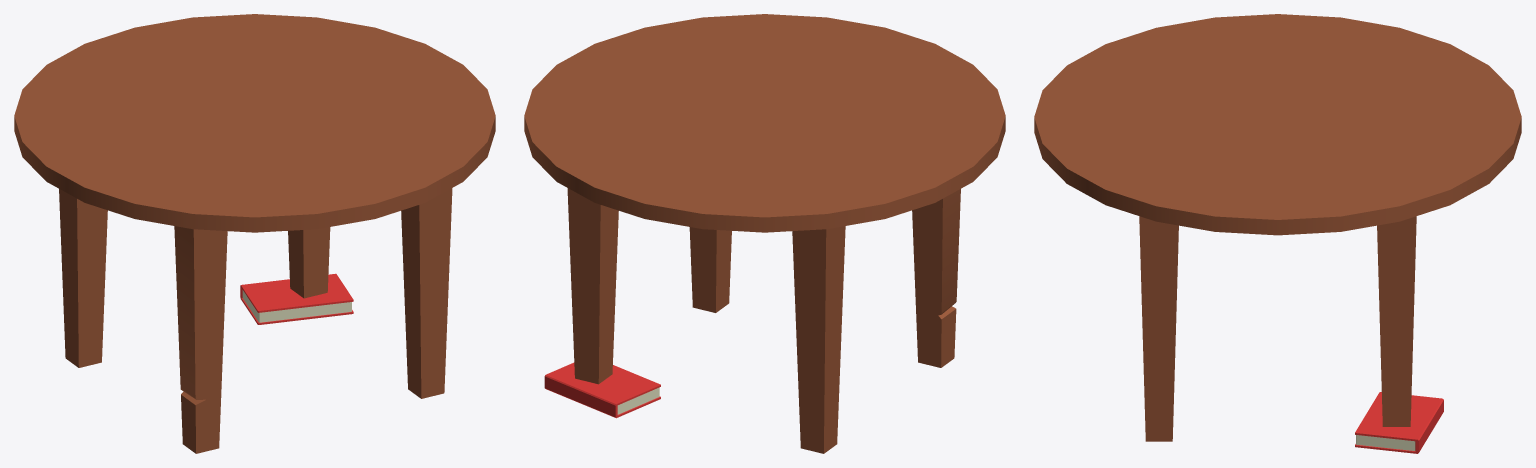
File: tableWrecked.fbx
3 views of the same model, side by side, from view 1: azimuth 30°, elevation 25°; view 2: azimuth 150°, elevation 25°; view 3: azimuth 270°, elevation 25° (orthographic).
Parts seen in each view (by area): view 1: Table Wrecked; view 2: Table Wrecked; view 3: Table Wrecked.
Part boxes in pixels (left/top/right/bottom): Table Wrecked: left=14, top=14, right=495, bottom=453; Table Wrecked: left=524, top=14, right=1005, bottom=453; Table Wrecked: left=1034, top=14, right=1521, bottom=453.
Size of the model in its own units: 142 by 142 by 84.63.
